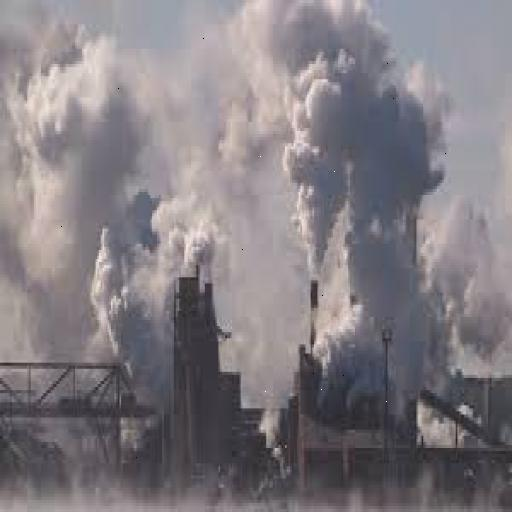smoke: (5, 3, 473, 378)
